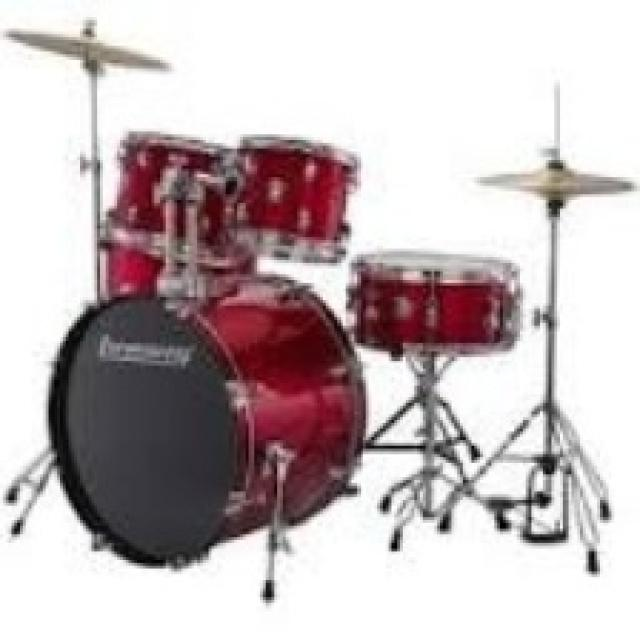drums: (1, 13, 640, 580)
